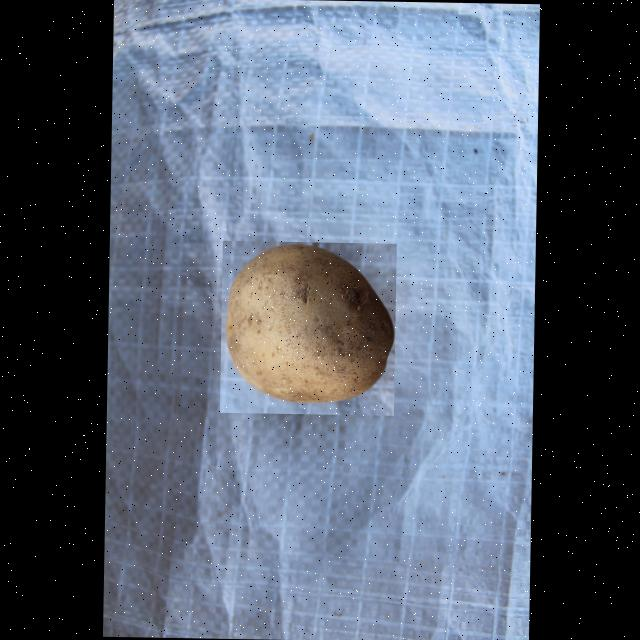Diseased-fungal potato: (218, 240, 396, 416)
